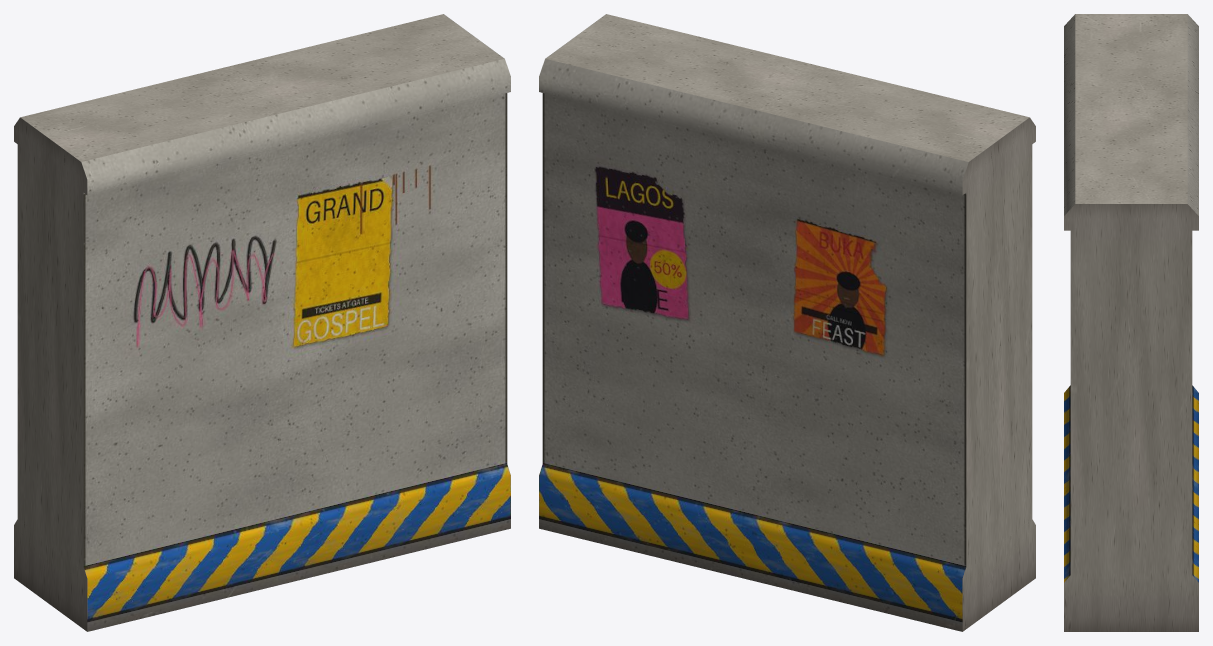
The model's file is env_wall_b.glb.
The picture shows the model from 3 angles, left to right: view 1: azimuth 30°, elevation 25°; view 2: azimuth 150°, elevation 25°; view 3: azimuth 270°, elevation 25°; orthographic projection. The views are drawn at different scales.
Parts seen in each view (by area): view 1: env_wall_b_body; view 2: env_wall_b_body; view 3: env_wall_b_body.
Part boxes in pixels (x1=…): env_wall_b_body: x1=14, y1=14, x2=510, y2=631; env_wall_b_body: x1=539, y1=14, x2=1035, y2=631; env_wall_b_body: x1=1064, y1=14, x2=1198, y2=631.
Bounding box in the file's own units: 1 × 1.05 × 0.3.
Materials: 1 (1 with a texture image).
